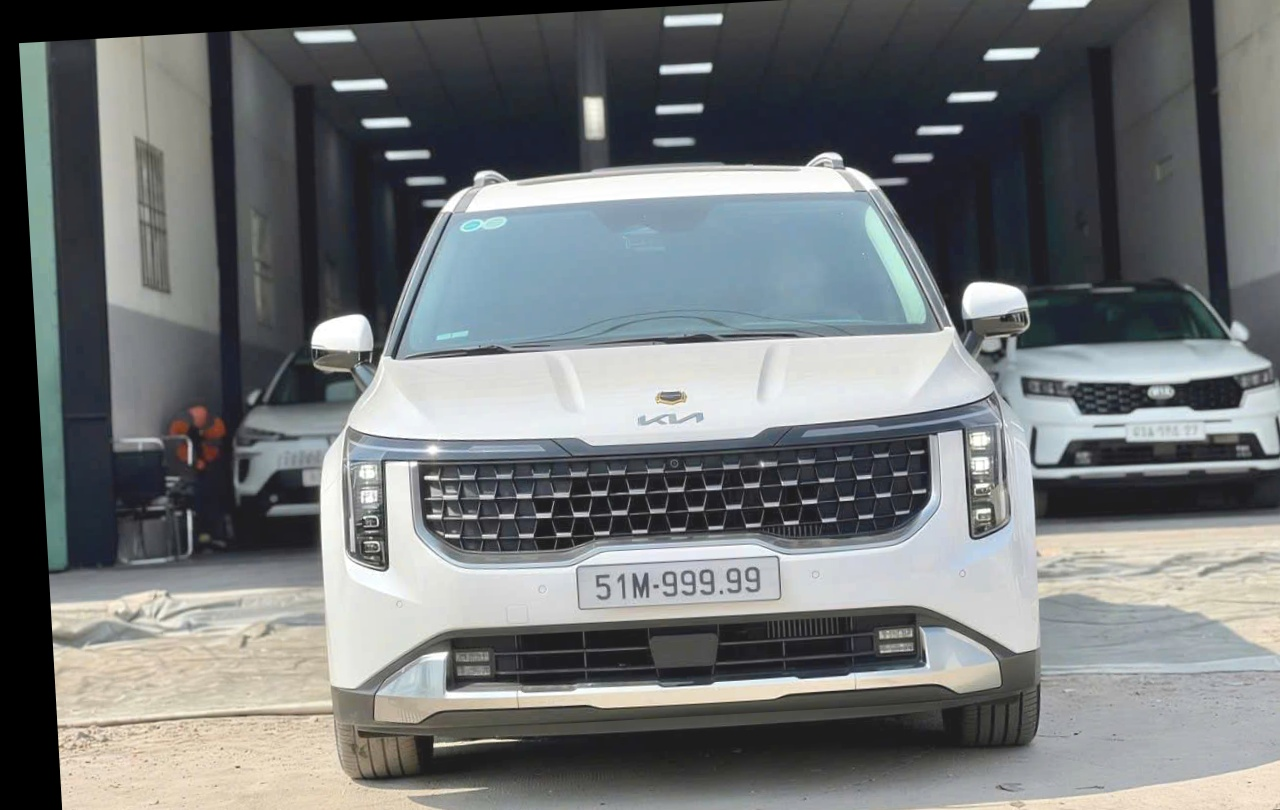Bien-so: (505, 544, 720, 593)
